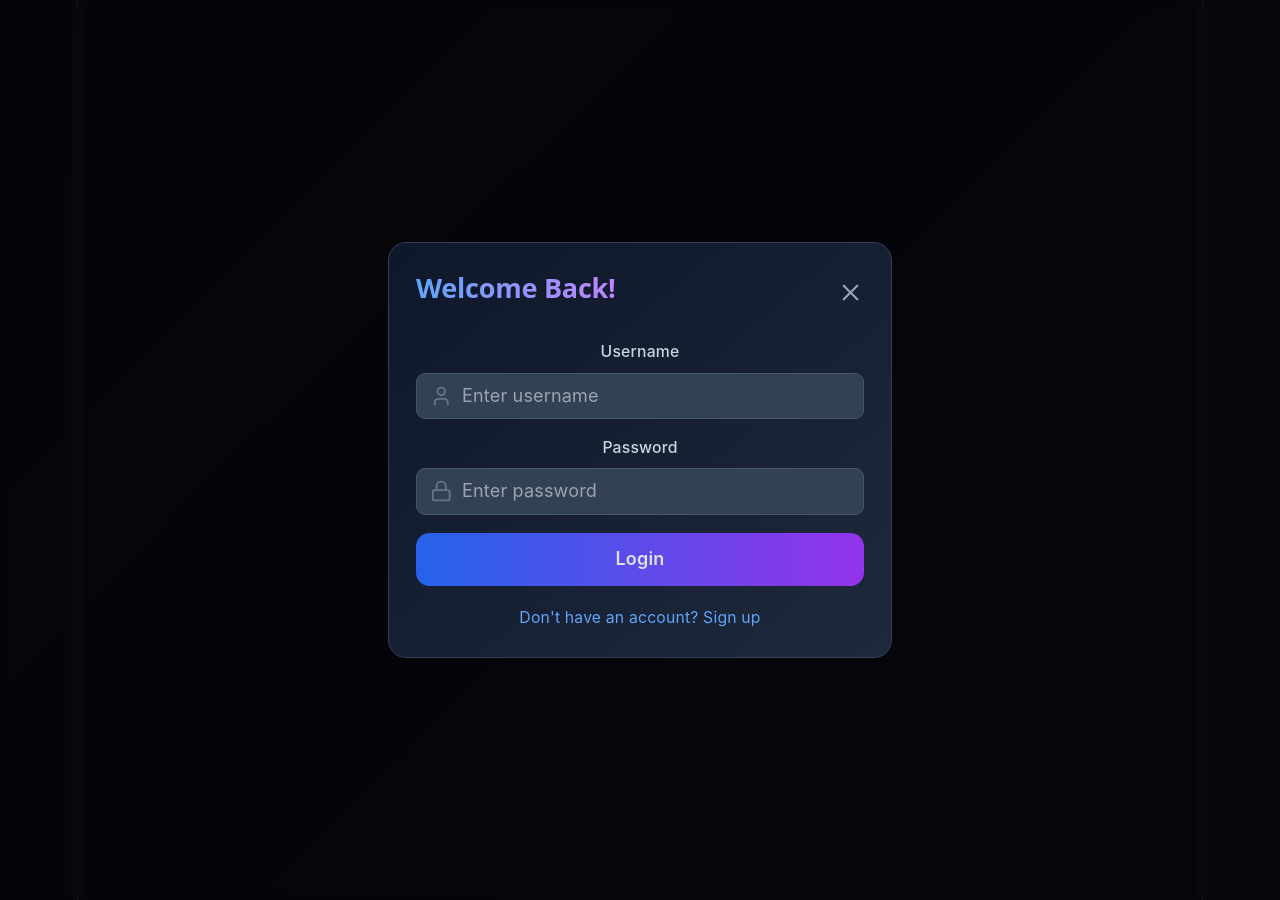
AuthModal › Login functionality › should handle network errors during login
Type "testuser" into the field with placeholder "Enter username".
click(640, 396); type("testuser")  # box [416, 373, 864, 419]
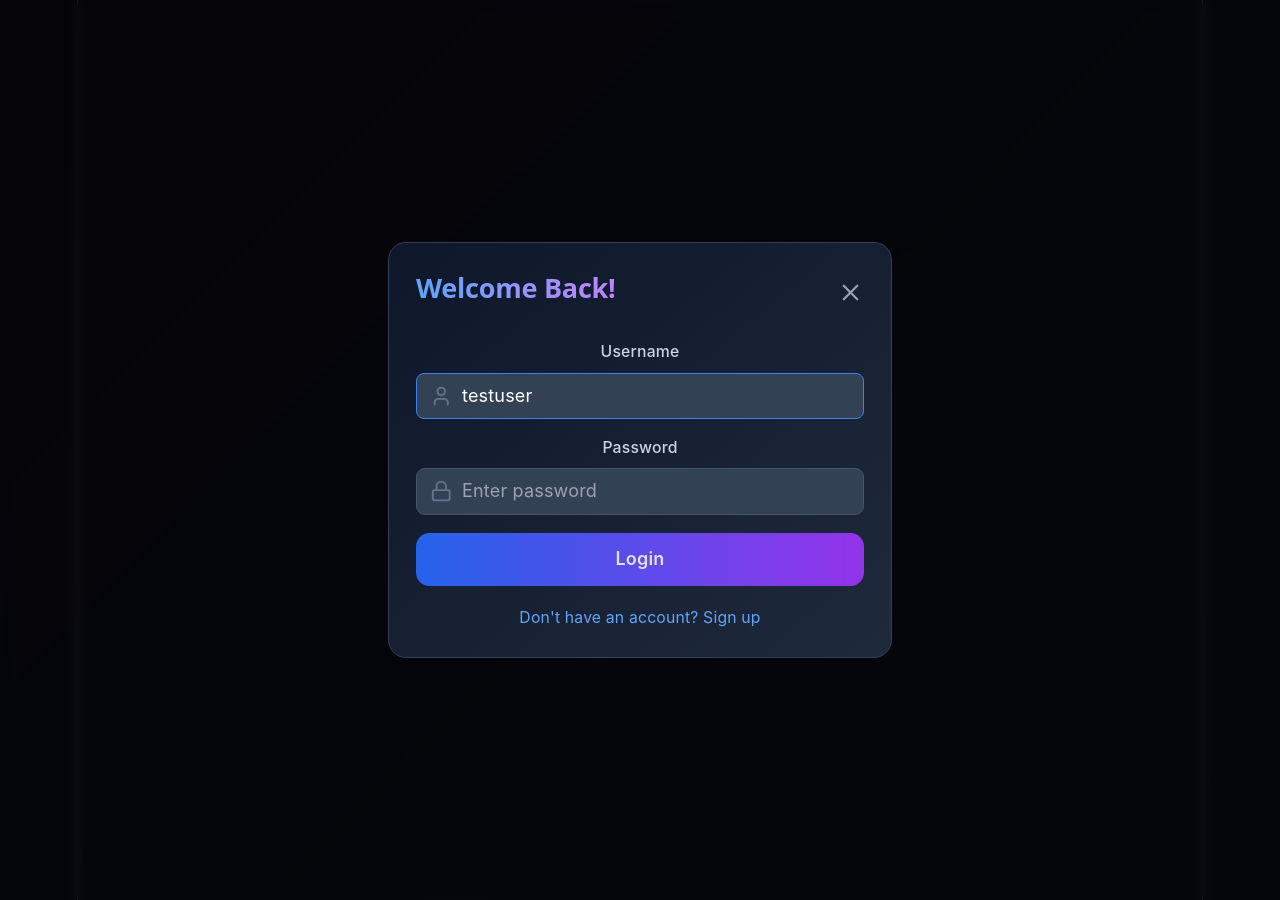
Type "password123" into the password field with placeholder "Enter password".
click(640, 491); type("password123")  # box [416, 468, 864, 514]
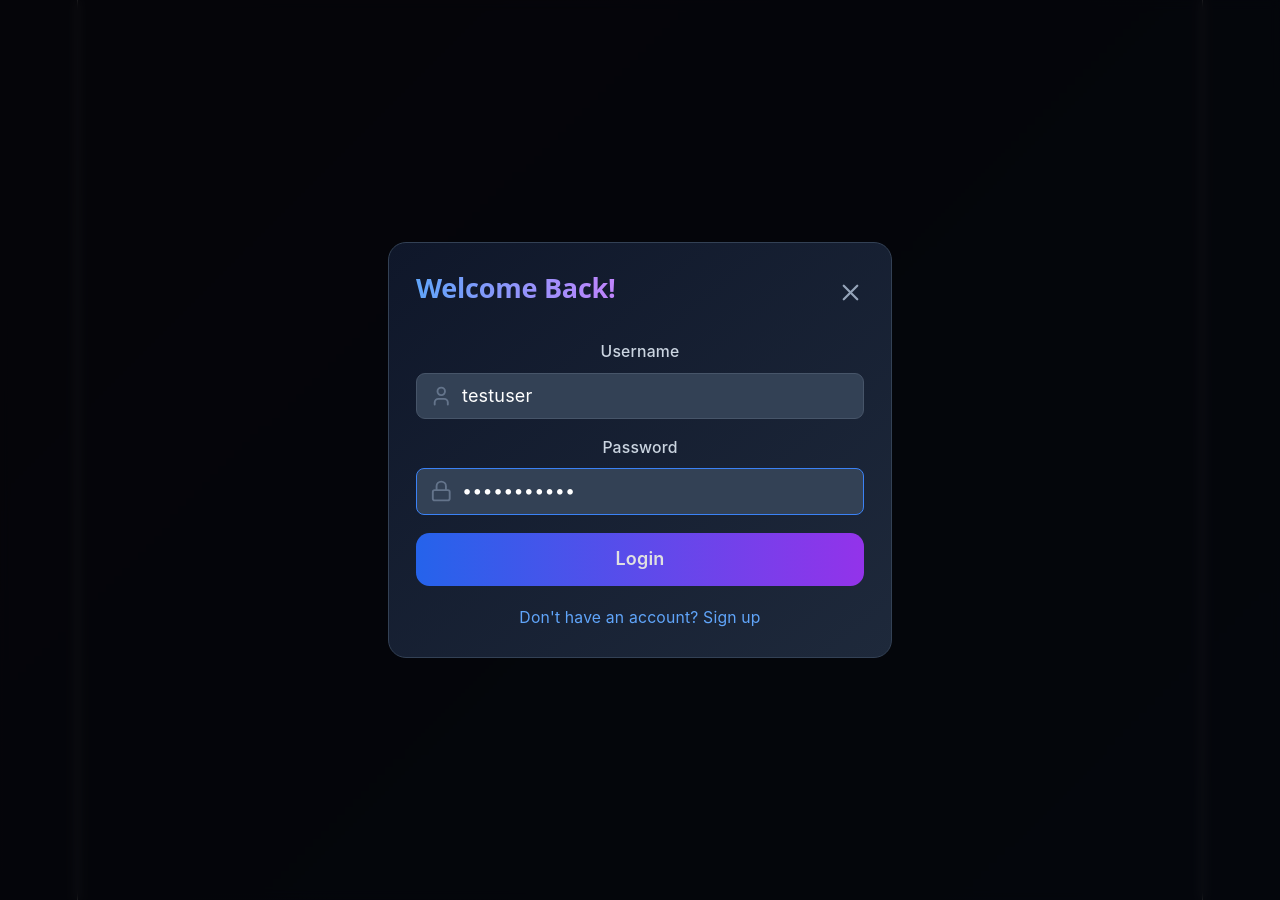
Click the button "Login".
click(640, 559)  # box [416, 532, 864, 586]
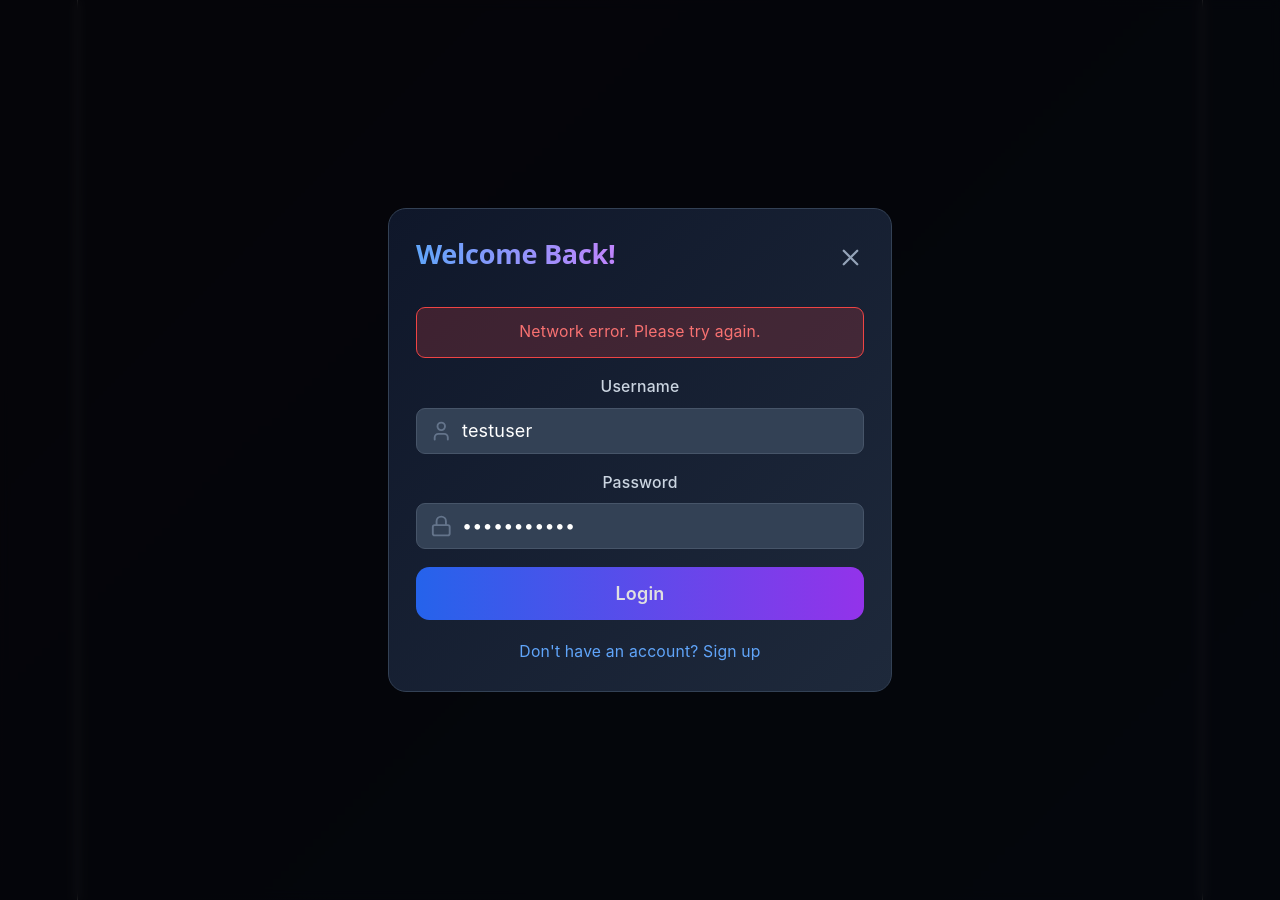
Expected: the text "Network error. Please try again." is shown, [416, 307, 864, 358]
